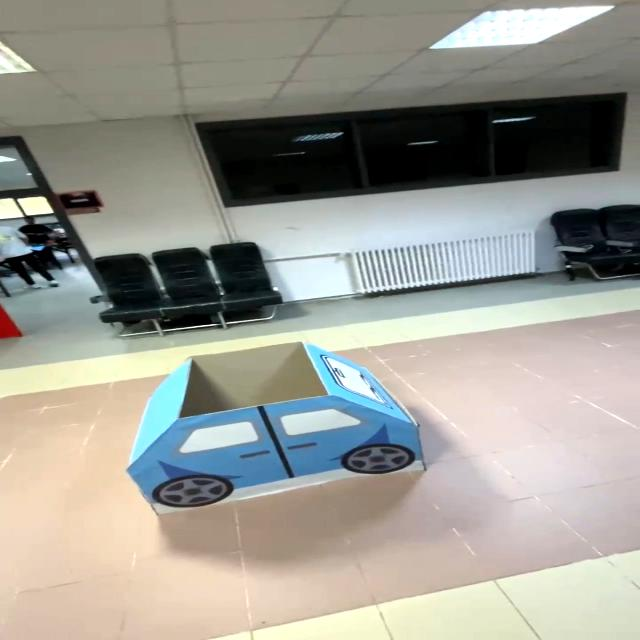blue_car: (75, 327, 439, 534)
